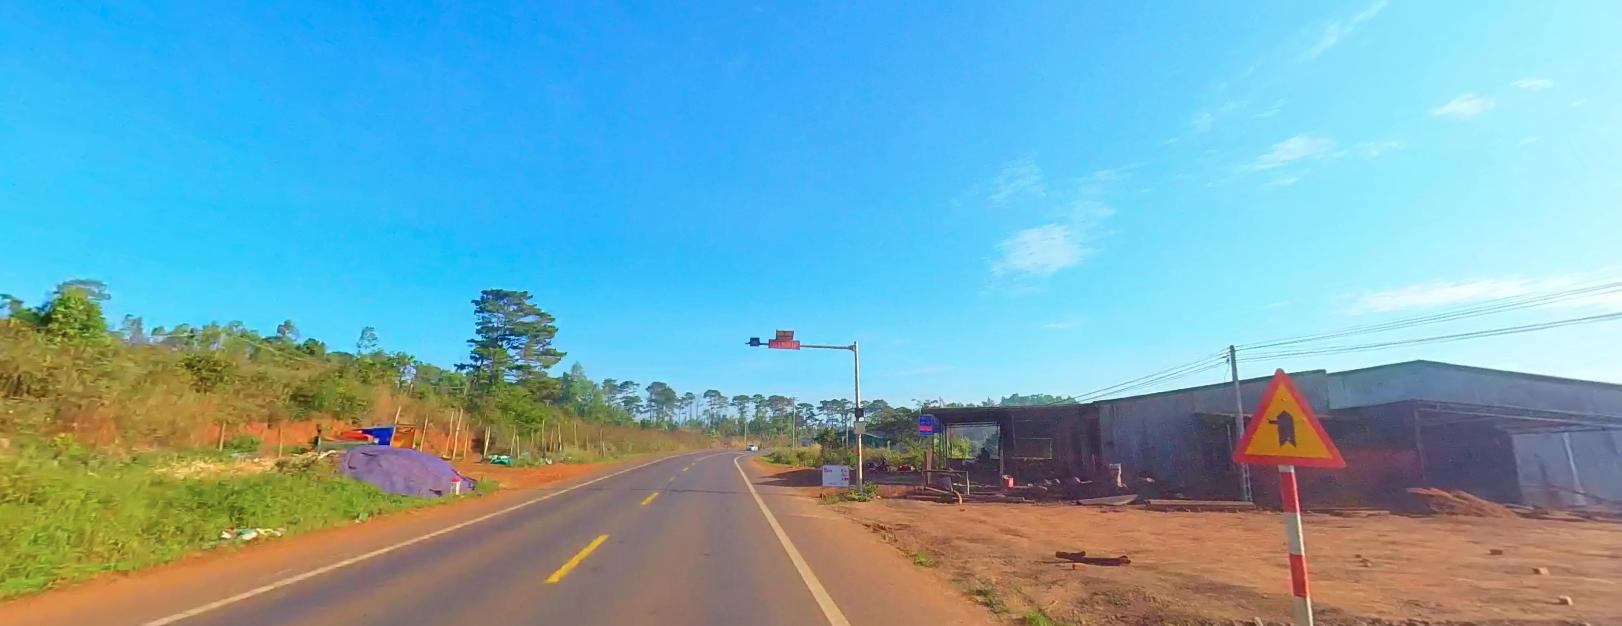Nguy hiem: (1232, 366, 1343, 467)
